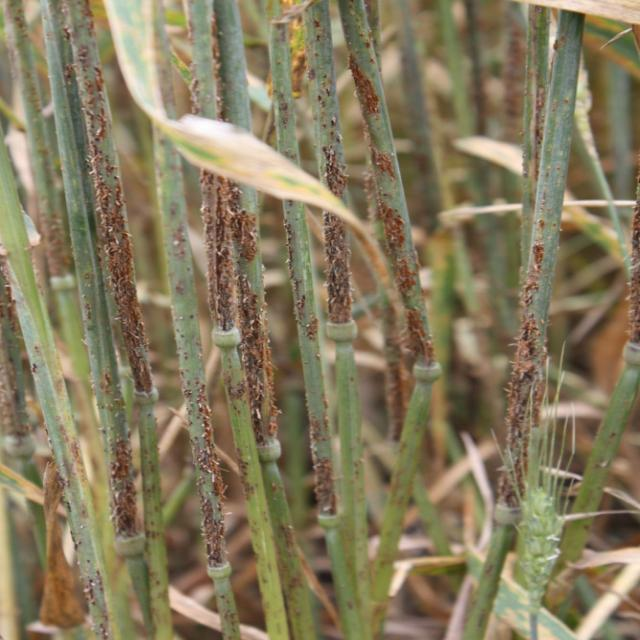wheat-stemrust: (69, 20, 156, 459), (488, 143, 572, 551), (348, 35, 440, 368), (297, 29, 356, 379)
